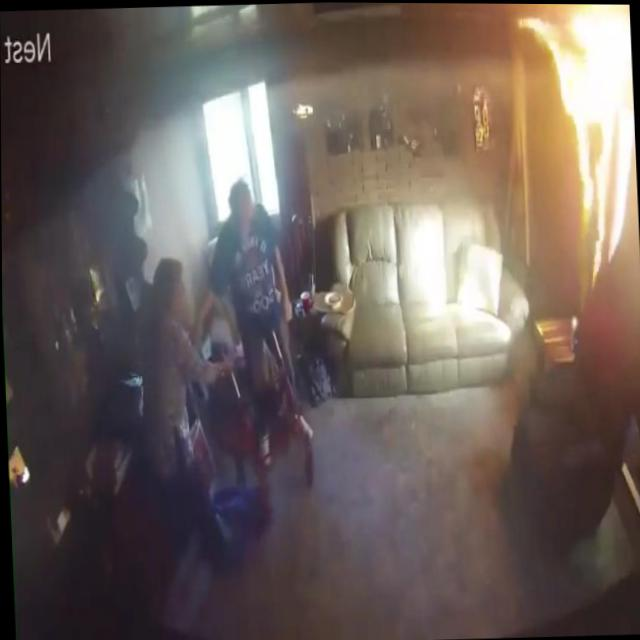fire: (513, 3, 638, 295)
